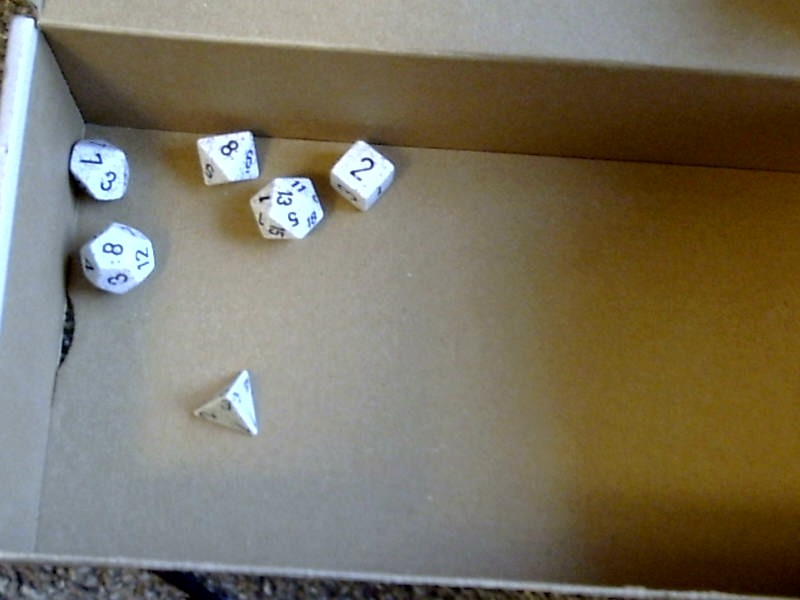d10 7: (63, 132, 135, 208)
d12 8: (78, 220, 160, 302)
d20 13: (247, 175, 326, 250)
d4 3: (191, 366, 274, 442)
d6 2: (327, 135, 405, 214)
d8 8: (192, 124, 270, 189)
